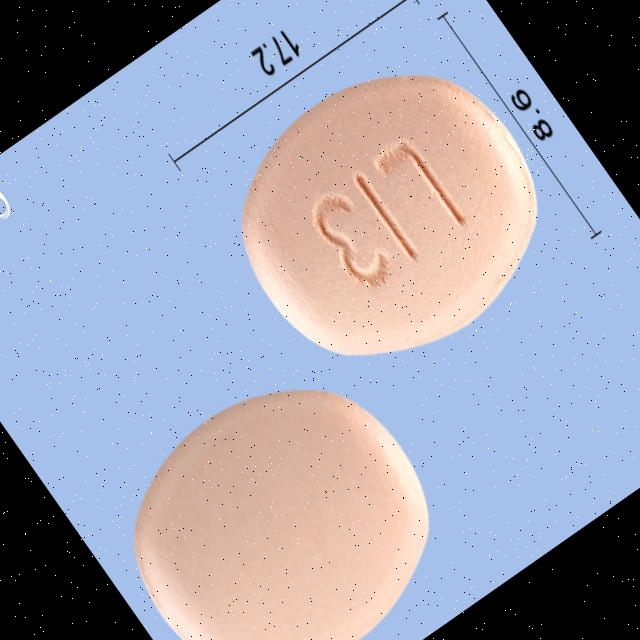Levoable: (194, 23, 586, 410), (83, 338, 479, 640)
